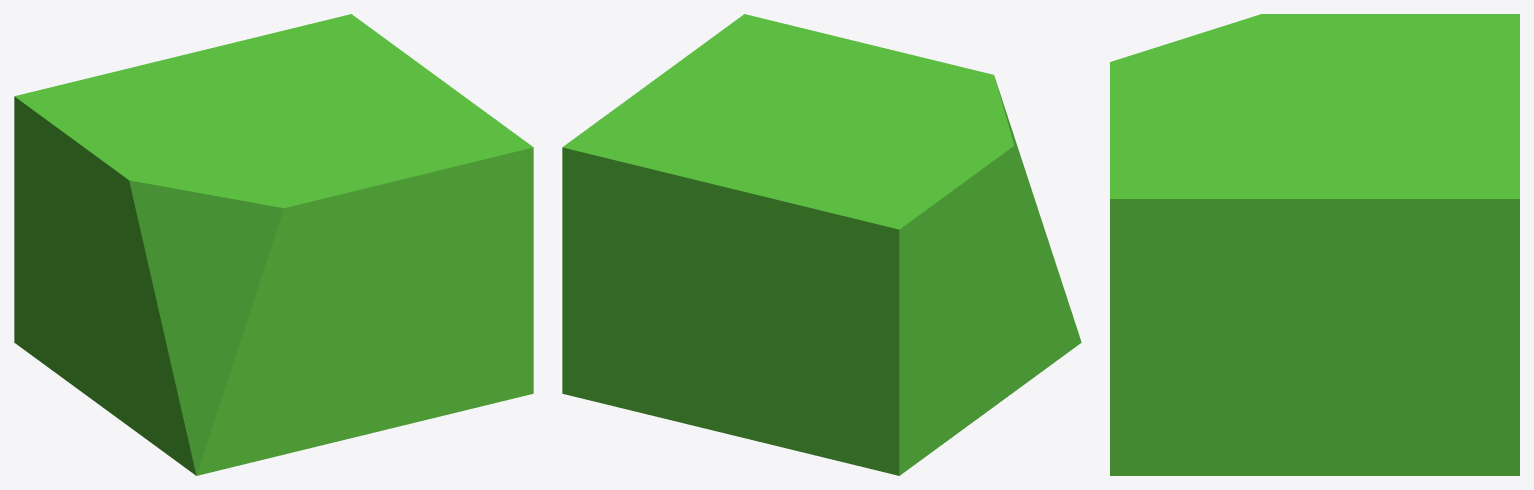
Rendered from Pavement_02.fbx.
3 views of the same model, side by side, from view 1: azimuth 30°, elevation 25°; view 2: azimuth 150°, elevation 25°; view 3: azimuth 270°, elevation 25° (orthographic). The views are drawn at different scales.
Parts seen in each view (by area): view 1: Pavement_02; view 2: Pavement_02; view 3: Pavement_02.
Boxes of the visible parts, bbox=[...] form: Pavement_02: bbox=[14, 14, 533, 475]; Pavement_02: bbox=[562, 14, 1081, 475]; Pavement_02: bbox=[1110, 14, 1519, 475].
Bounding box in the file's own units: 23.25 × 16.23 × 21.76.
